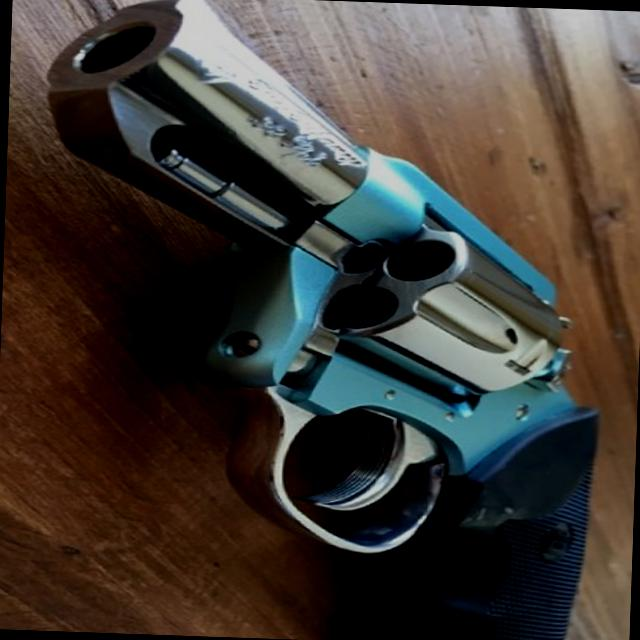handgun: (31, 0, 605, 639)
